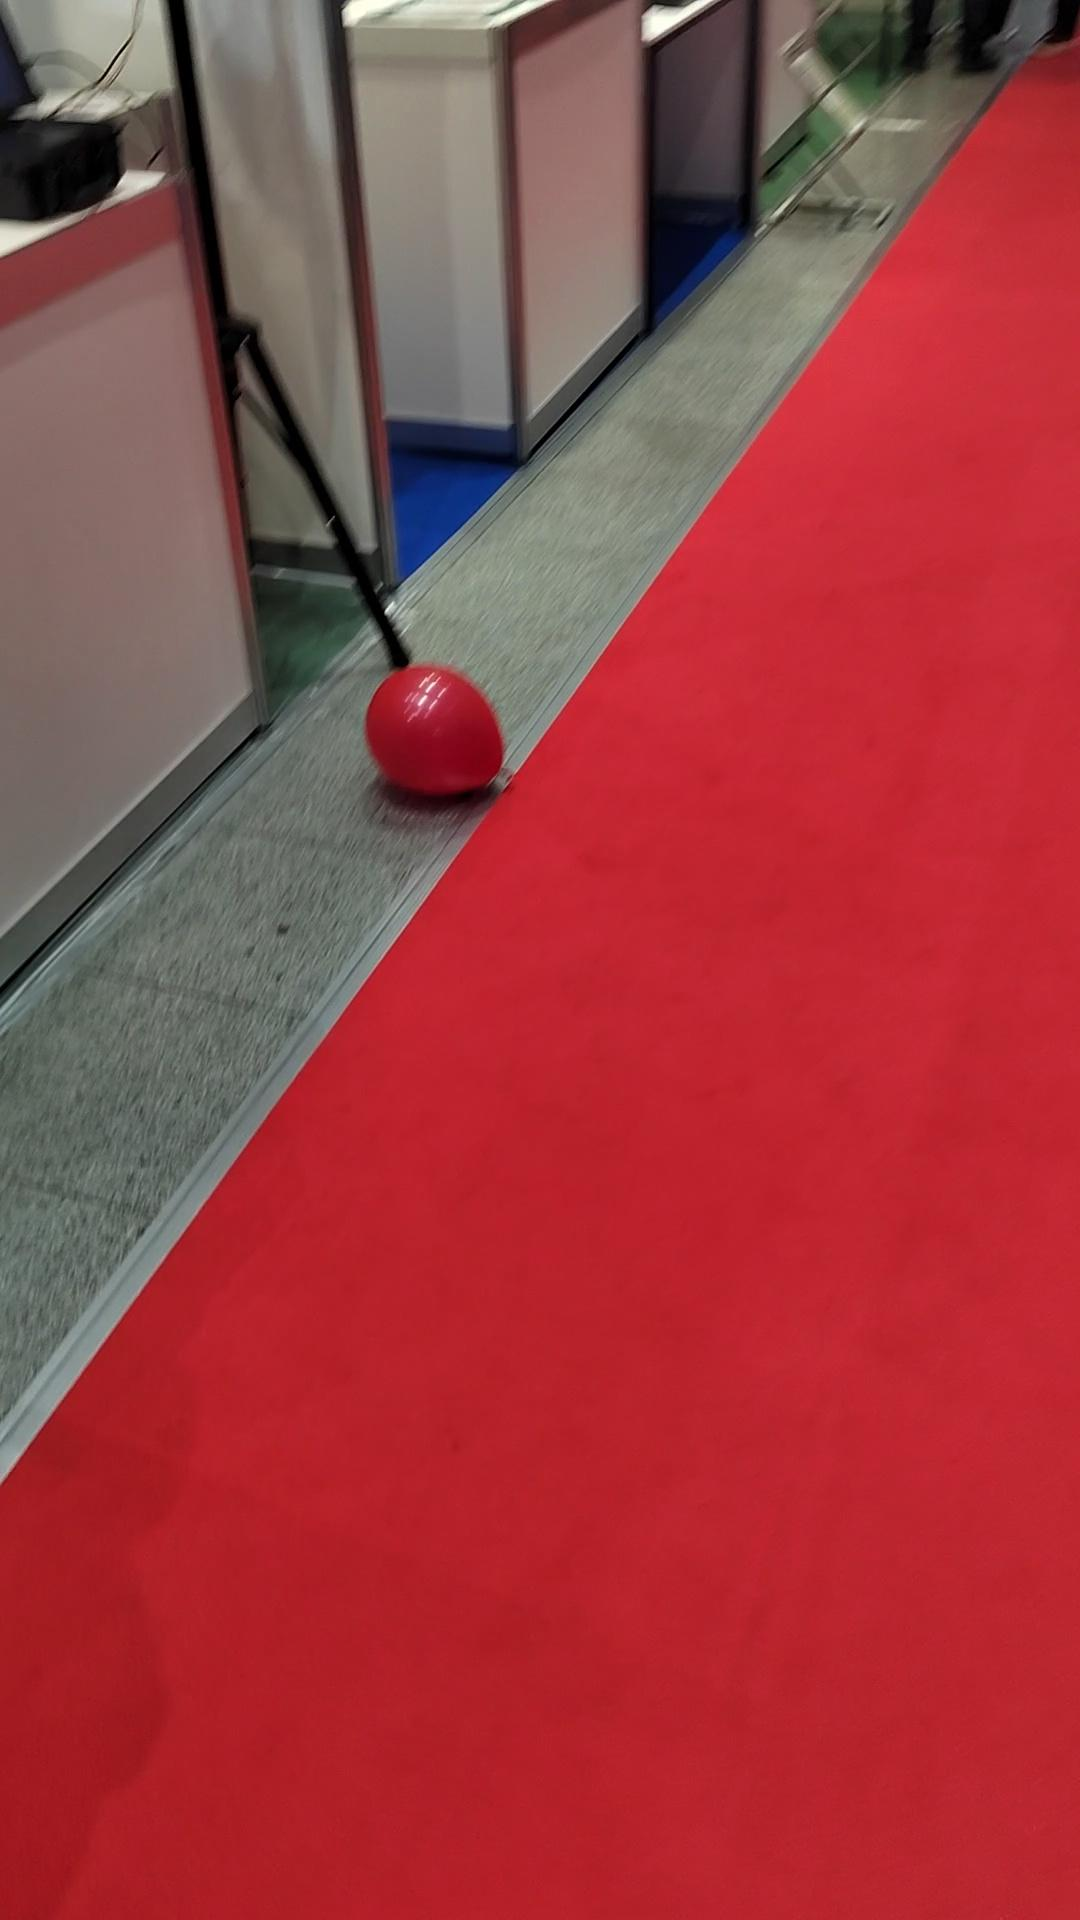red: (363, 661, 507, 803)
